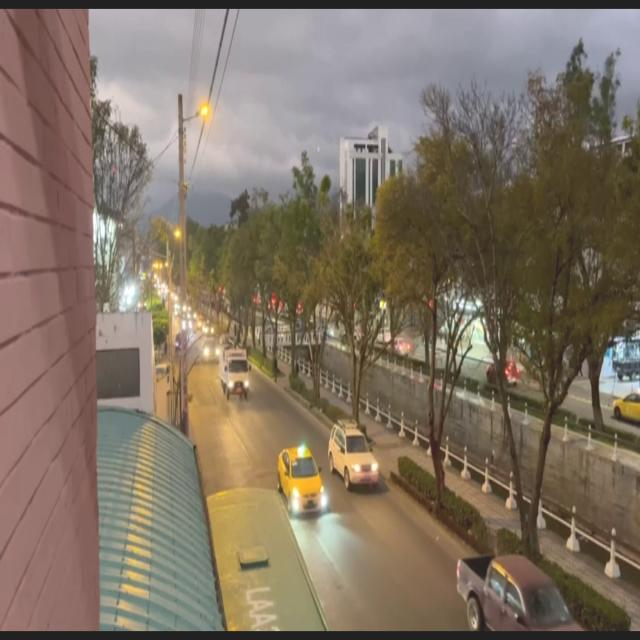CMT: (457, 554, 581, 634)
SED: (279, 453, 322, 511)
SUV: (331, 426, 379, 484)
TRUCK: (221, 350, 249, 400)
